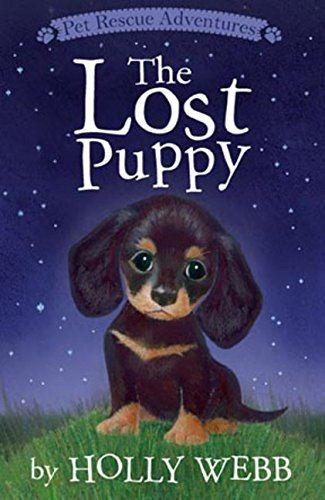puppy-dog: (64, 197, 291, 447)
